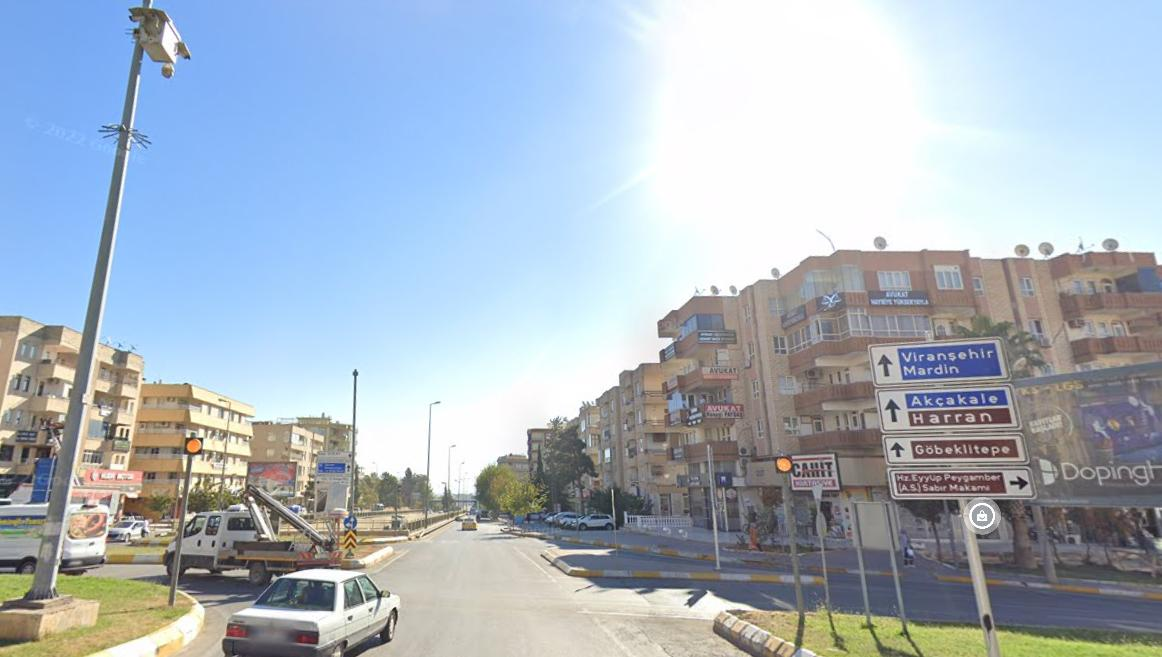yellowlight: (772, 449, 798, 480), (180, 434, 204, 459)
